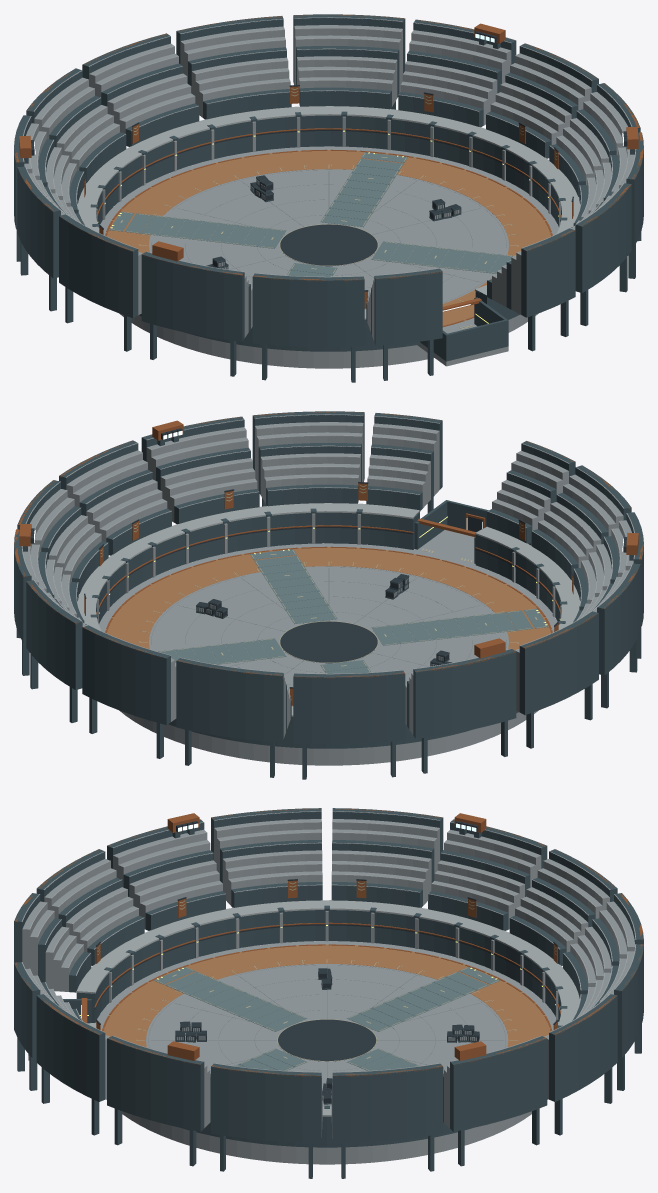
File: wsc-scene-008-titan-bowl.glb
The picture shows the model from 3 angles, top to bottom: view 1: azimuth 30°, elevation 25°; view 2: azimuth 150°, elevation 25°; view 3: azimuth 270°, elevation 25°; orthographic projection.
Parts seen in each view (by area): view 1: 05 Segmented terraces | Blue-black iron, 05 Segmented terraces | Slate concrete, 01 Circular slab | Slate concrete, 04 Retaining wall | Blue-black iron, 02 Edge band | Oxidized bronze band, 05 Segmented terraces | Raised concrete, 04 Retaining wall | Raised concrete, 03 Diagonal lane 3 | Slate runway pavers, 03 Diagonal lane 4 | Slate runway pavers, 01 Circular slab | Recess black, 03 Diagonal lane 1 | Slate runway pavers, 06 South checkpoint pocket | Blue-black iron (+9 smaller); view 2: 05 Segmented terraces | Blue-black iron, 05 Segmented terraces | Slate concrete, 01 Circular slab | Slate concrete, 04 Retaining wall | Blue-black iron, 02 Edge band | Oxidized bronze band, 05 Segmented terraces | Raised concrete, 04 Retaining wall | Raised concrete, 03 Diagonal lane 2 | Slate runway pavers, 03 Diagonal lane 1 | Slate runway pavers, 01 Circular slab | Recess black, 03 Diagonal lane 4 | Slate runway pavers, 06 South checkpoint pocket | Blue-black iron (+9 smaller); view 3: 05 Segmented terraces | Blue-black iron, 05 Segmented terraces | Slate concrete, 01 Circular slab | Slate concrete, 04 Retaining wall | Blue-black iron, 02 Edge band | Oxidized bronze band, 05 Segmented terraces | Raised concrete, 04 Retaining wall | Raised concrete, 03 Diagonal lane 2 | Slate runway pavers, 03 Diagonal lane 3 | Slate runway pavers, 01 Circular slab | Recess black, 04 Retaining wall | Slate concrete, 05 Segmented terraces | Oxide steel (+7 smaller).
Boxes of the visible parts, box(x1,y1,x2,y2) form: 05 Segmented terraces | Blue-black iron: box(14, 14, 643, 382); 05 Segmented terraces | Slate concrete: box(24, 25, 634, 341); 01 Circular slab | Slate concrete: box(99, 146, 558, 368); 04 Retaining wall | Blue-black iron: box(90, 111, 567, 351); 02 Edge band | Oxidized bronze band: box(106, 150, 551, 325); 05 Segmented terraces | Raised concrete: box(23, 17, 636, 302); 04 Retaining wall | Raised concrete: box(77, 106, 580, 319); 03 Diagonal lane 3 | Slate runway pavers: box(109, 211, 286, 248); 03 Diagonal lane 4 | Slate runway pavers: box(320, 152, 407, 227); 01 Circular slab | Recess black: box(280, 224, 377, 266); 03 Diagonal lane 1 | Slate runway pavers: box(371, 241, 513, 273); 06 South checkpoint pocket | Blue-black iron: box(420, 297, 508, 361); 05 Segmented terraces | Blue-black iron: box(14, 411, 643, 779); 05 Segmented terraces | Slate concrete: box(23, 422, 633, 738); 01 Circular slab | Slate concrete: box(99, 543, 558, 765); 04 Retaining wall | Blue-black iron: box(90, 508, 567, 748); 02 Edge band | Oxidized bronze band: box(106, 547, 551, 650); 05 Segmented terraces | Raised concrete: box(21, 414, 634, 699); 04 Retaining wall | Raised concrete: box(77, 503, 580, 716); 03 Diagonal lane 2 | Slate runway pavers: box(371, 608, 548, 645); 03 Diagonal lane 1 | Slate runway pavers: box(250, 549, 337, 624); 01 Circular slab | Recess black: box(280, 621, 377, 663); 03 Diagonal lane 4 | Slate runway pavers: box(158, 638, 286, 664); 06 South checkpoint pocket | Blue-black iron: box(414, 500, 488, 563); 05 Segmented terraces | Blue-black iron: box(14, 808, 643, 1178); 05 Segmented terraces | Slate concrete: box(22, 819, 635, 1138); 01 Circular slab | Slate concrete: box(95, 941, 558, 1164); 04 Retaining wall | Blue-black iron: box(76, 905, 567, 1147); 02 Edge band | Oxidized bronze band: box(103, 944, 551, 1047); 05 Segmented terraces | Raised concrete: box(21, 811, 636, 1095); 04 Retaining wall | Raised concrete: box(76, 900, 579, 1116); 03 Diagonal lane 2 | Slate runway pavers: box(154, 967, 307, 1031); 03 Diagonal lane 3 | Slate runway pavers: box(347, 967, 500, 1031); 01 Circular slab | Recess black: box(278, 1019, 376, 1061); 04 Retaining wall | Slate concrete: box(109, 911, 561, 1020); 05 Segmented terraces | Oxide steel: box(14, 808, 643, 1076).
Size of the model in its own units: 140 by 32.39 by 139.
